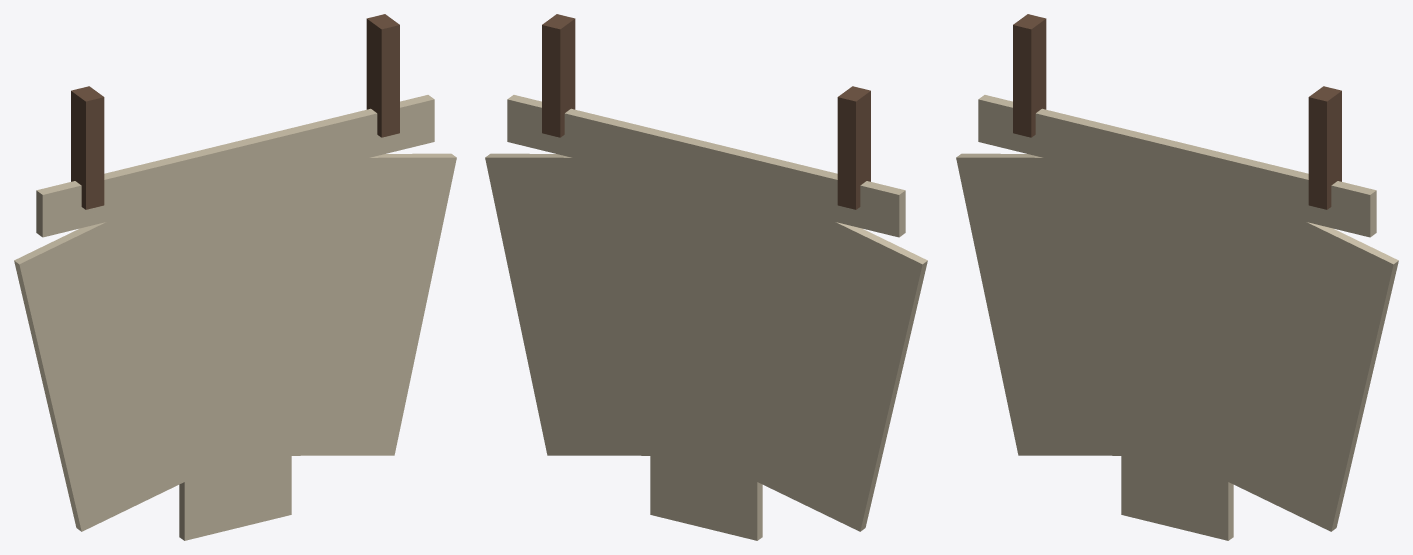
Rendered from knickers-line-plain.glb.
3 views of the same model, side by side, from view 1: azimuth 30°, elevation 25°; view 2: azimuth 150°, elevation 25°; view 3: azimuth 330°, elevation 25° (orthographic).
Visible parts, largest first — view 1: paper, wood; view 2: paper, wood; view 3: paper, wood.
Boxes of the visible parts, <box> form: paper: <box>14,95,456,540</box>; wood: <box>71,14,399,209</box>; paper: <box>485,95,927,540</box>; wood: <box>542,14,870,209</box>; paper: <box>956,95,1398,540</box>; wood: <box>1013,14,1341,209</box>.
Bounding box in the file's own units: 0.2367 × 0.242 × 0.014.
